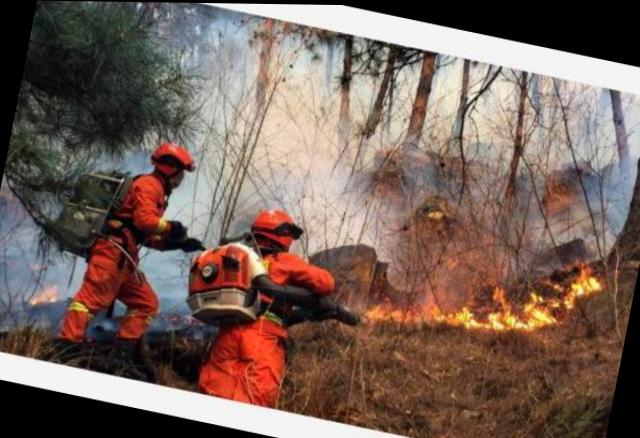fire: (349, 222, 604, 362)
